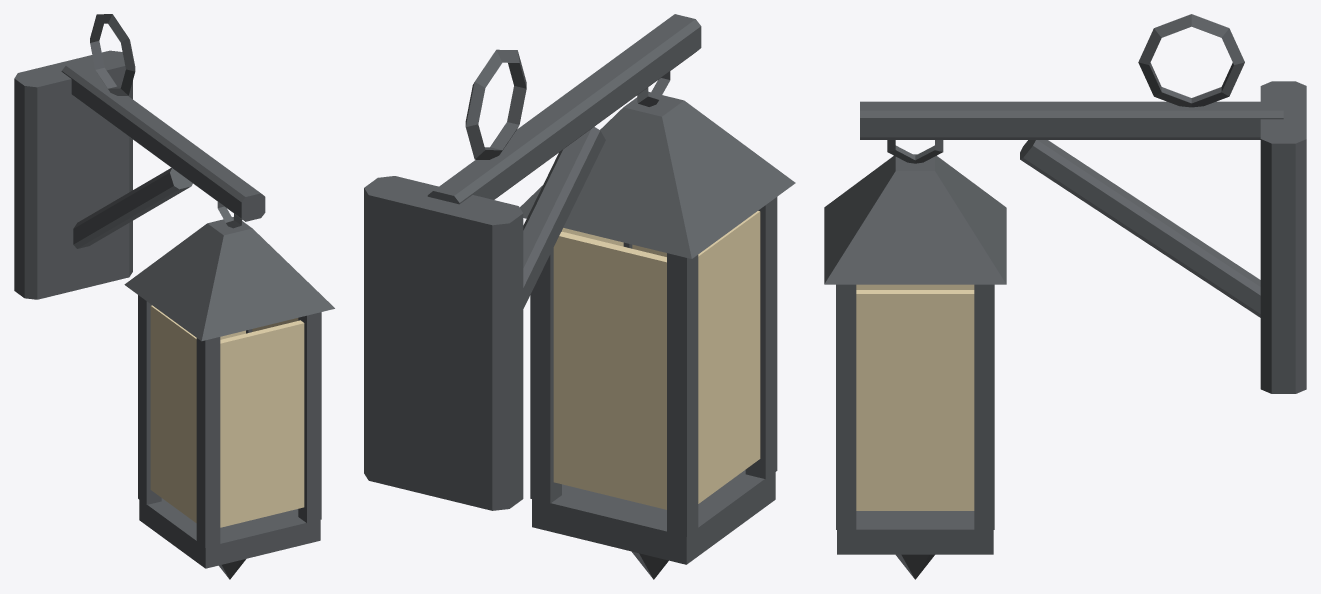
The model's file is wall_lantern.glb.
3 renders of one model, left to right at view 1: azimuth 30°, elevation 25°; view 2: azimuth 150°, elevation 25°; view 3: azimuth 270°, elevation 25°, orthographic. The views are drawn at different scales.
Parts seen in each view (by area): view 1: wall_lantern; view 2: wall_lantern; view 3: wall_lantern.
Boxes of the visible parts, x1,y1,x2,y2 form: wall_lantern: (14,14,334,579); wall_lantern: (364,14,795,579); wall_lantern: (824,14,1306,579).
Size of the model in its own units: 0.198 by 0.678 by 0.524.
